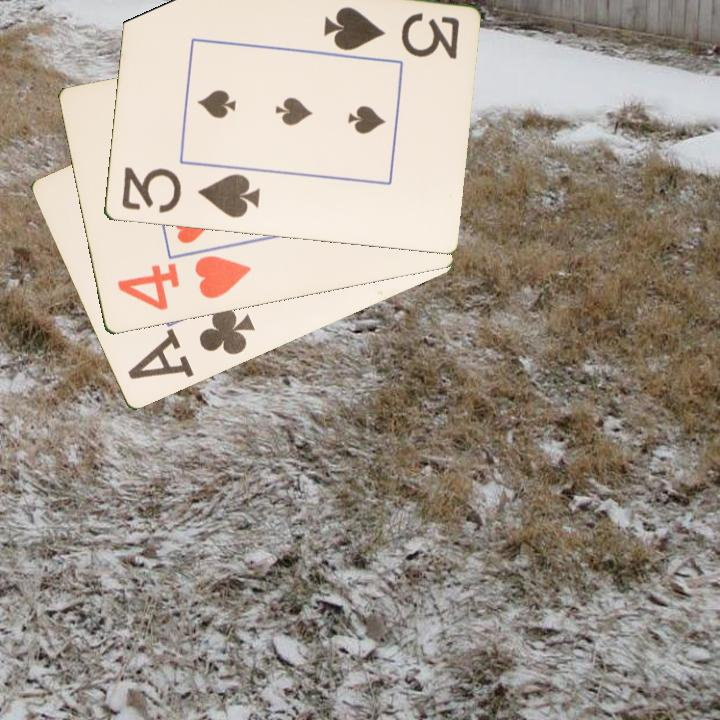3s: (117, 163, 262, 222), (319, 3, 462, 62)
4h: (113, 252, 254, 314)
Ac: (123, 304, 258, 383)
